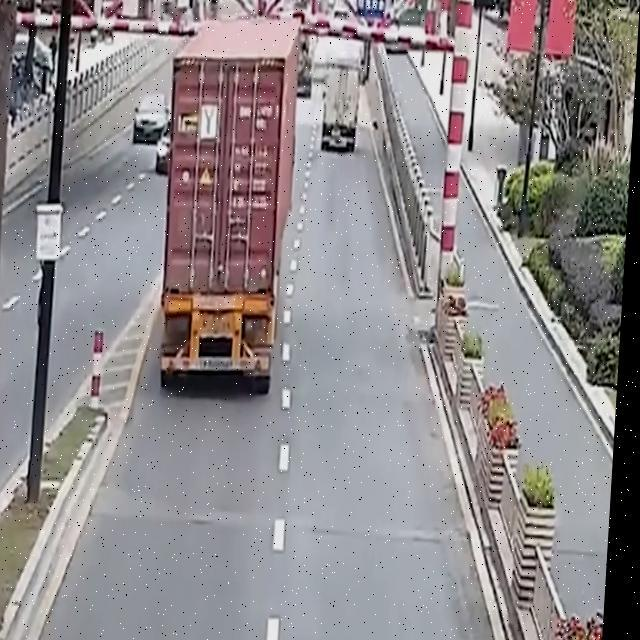normal: (157, 30, 288, 424)
